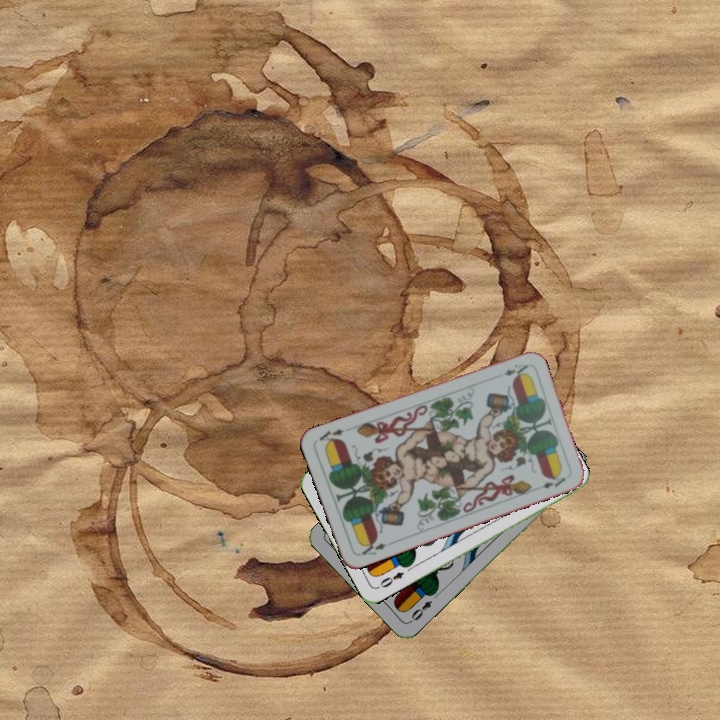EA: (358, 536, 389, 558), (500, 360, 530, 379)
EO: (406, 596, 435, 625), (373, 568, 407, 591)
